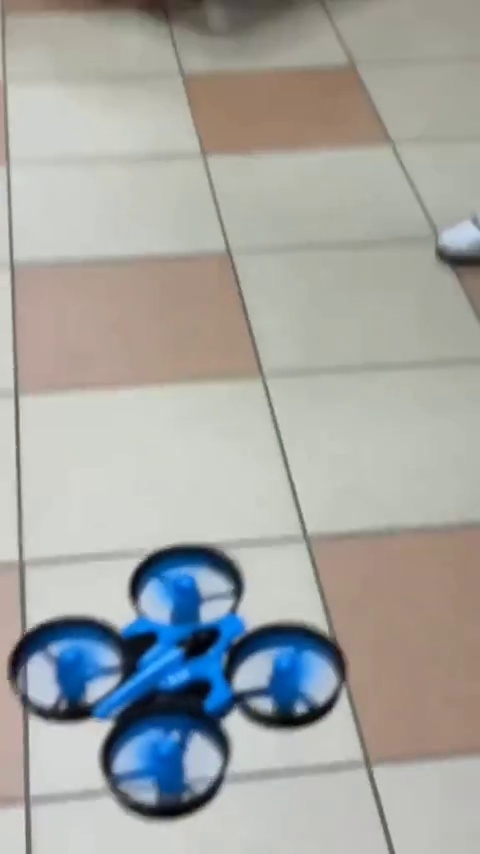drone: (17, 539, 352, 818)
